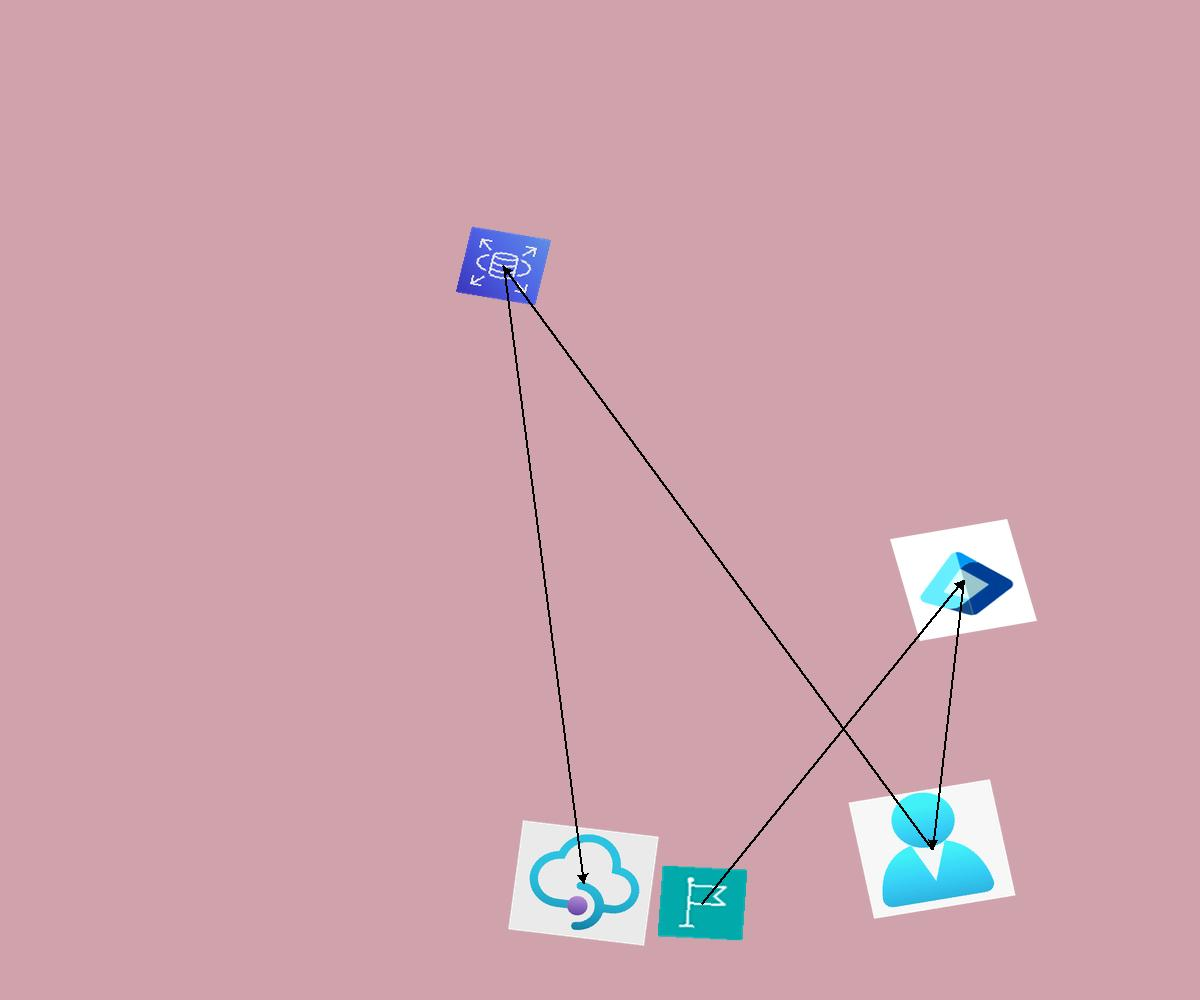AWS-RDS: (455, 226, 552, 306)
AWS-Region: (657, 865, 748, 941)
Azure_api_gateway: (508, 820, 659, 946)
Azure_microsoft_entra: (890, 519, 1037, 641)
Azure_users: (848, 779, 1016, 919)
